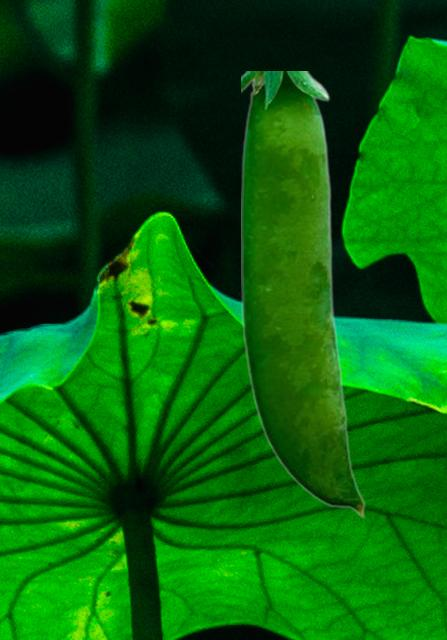pea: (241, 71, 364, 517)
